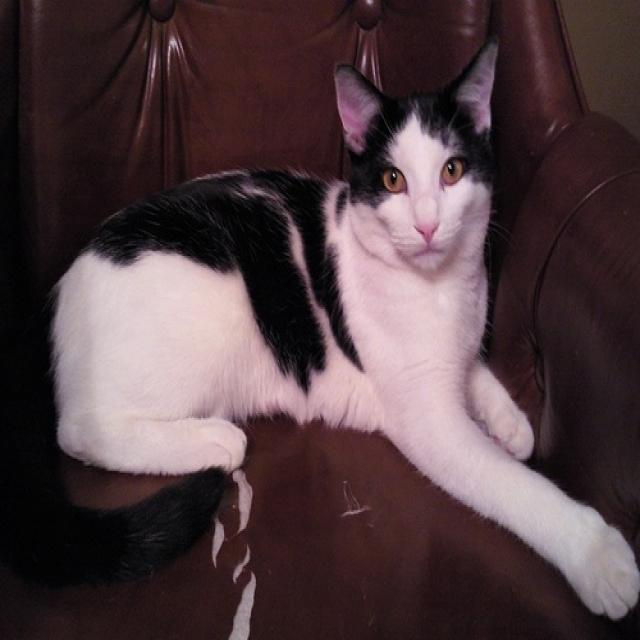cat: (34, 31, 640, 606)
